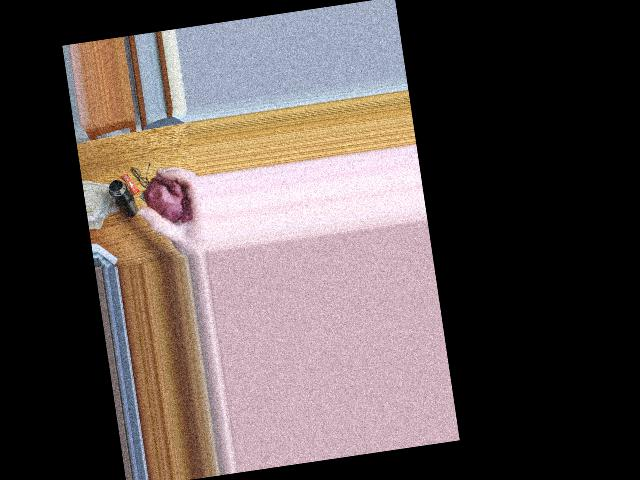onion: (148, 174, 183, 215)
